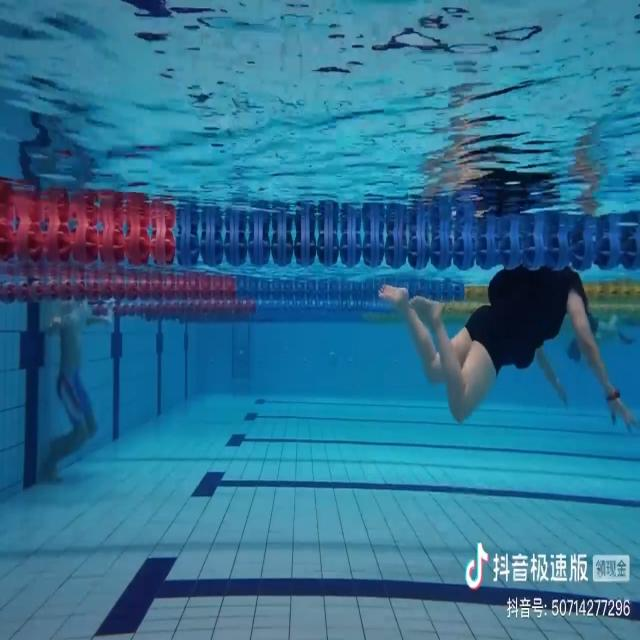Swimming: (376, 262, 638, 436), (45, 299, 115, 480)
